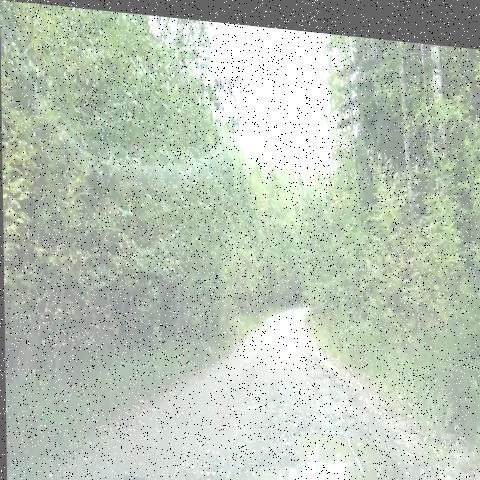pothole: (200, 392, 413, 480)
